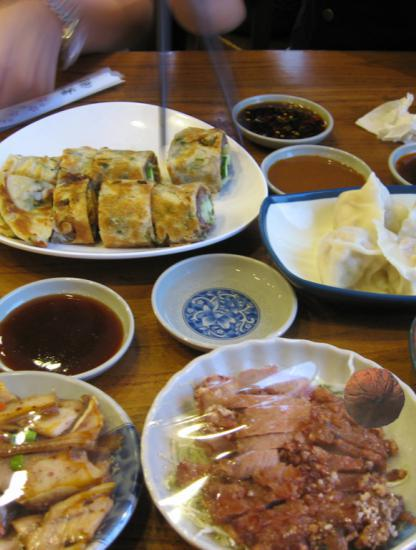Walnut: (342, 366, 406, 430)
